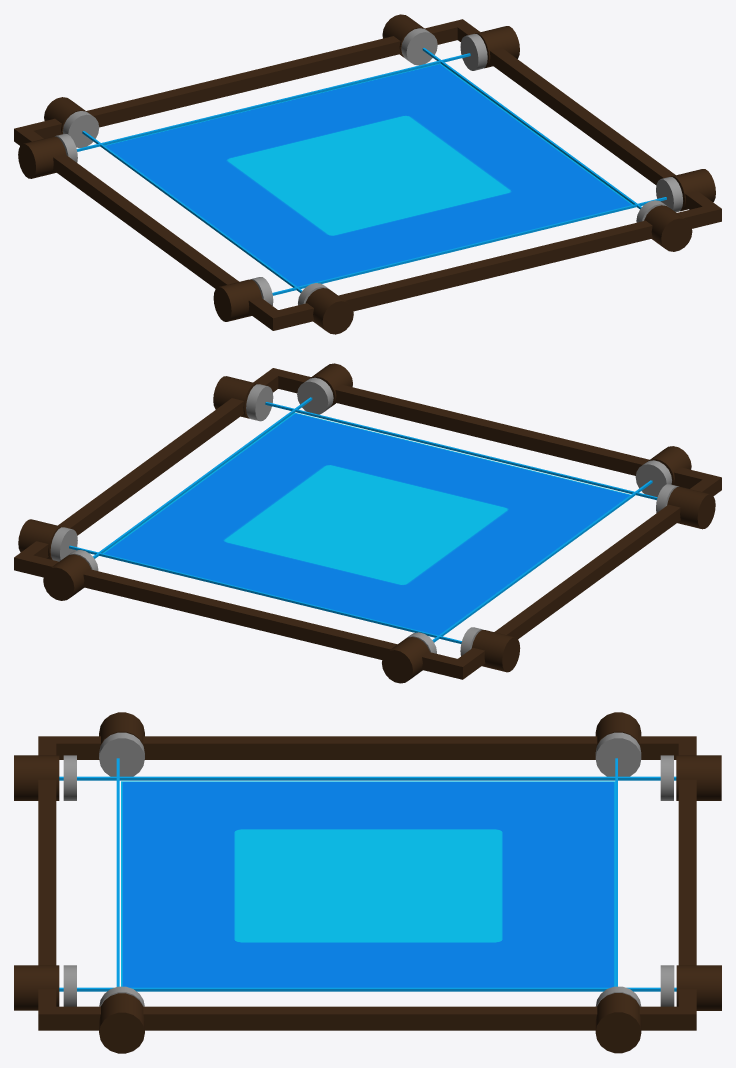
The model's file is scanPlane.FBX.
The picture shows the model from 3 angles, top to bottom: view 1: azimuth 30°, elevation 25°; view 2: azimuth 150°, elevation 25°; view 3: azimuth 270°, elevation 25°; orthographic projection. The views are drawn at different scales.
Parts seen in each view (by area): view 1: Cylinder006; view 2: Cylinder006; view 3: Cylinder006.
Part boxes in pixels (bbox=[...]): Cylinder006: bbox=[14, 14, 721, 334]; Cylinder006: bbox=[14, 363, 721, 683]; Cylinder006: bbox=[14, 712, 721, 1053].
Bounding box in the file's own units: 155 × 9.83 × 154.
4 materials, 1 textured.
